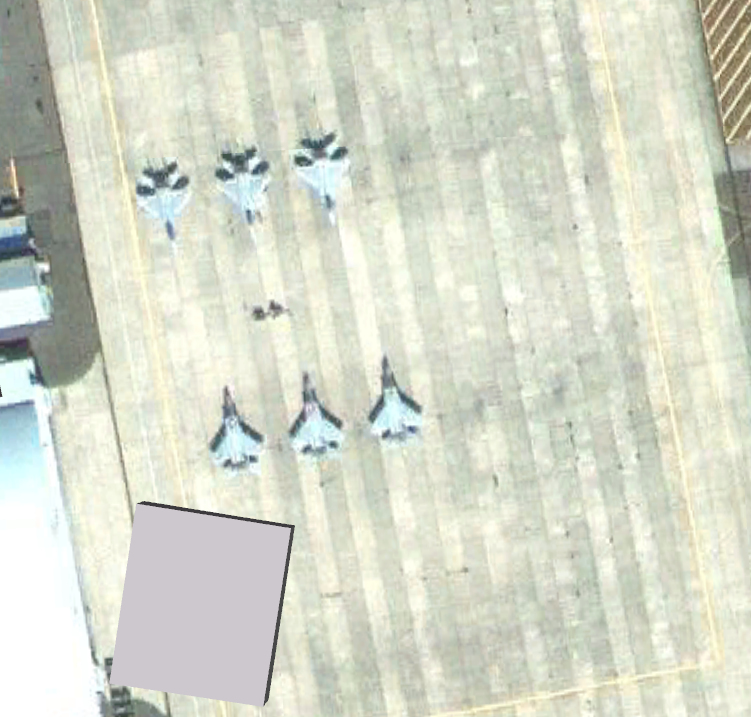A13: (130, 154, 197, 250), (210, 140, 277, 236), (290, 128, 357, 224), (204, 383, 271, 479), (281, 369, 348, 465), (358, 354, 425, 450)
